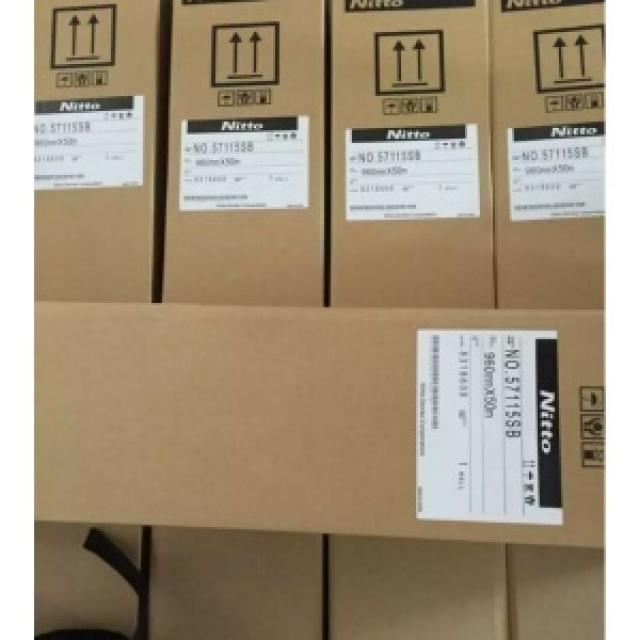box: (34, 303, 604, 548), (329, 0, 495, 307), (162, 0, 324, 305), (34, 0, 160, 303), (491, 0, 604, 307), (147, 527, 324, 640), (329, 535, 506, 640), (36, 523, 141, 640), (506, 544, 606, 638)
